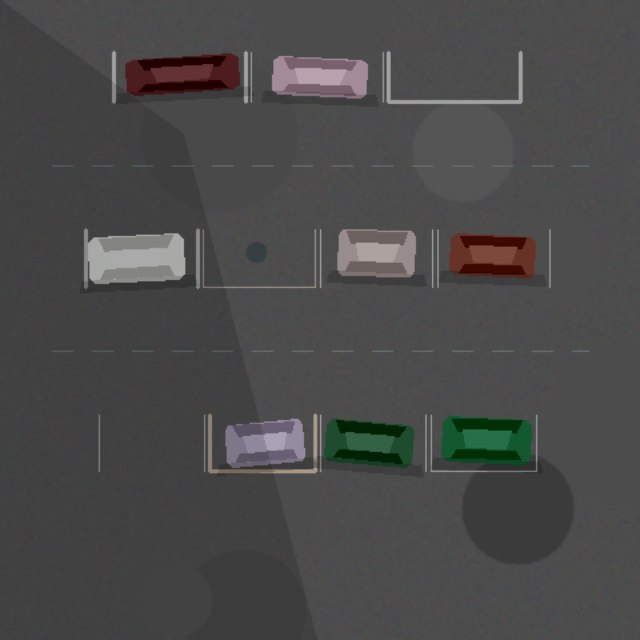space-empty: (203, 229, 315, 287), (388, 52, 520, 101), (99, 415, 204, 471)
space-occupied: (85, 229, 197, 287), (320, 229, 432, 287), (437, 229, 549, 287), (113, 52, 245, 101), (251, 52, 383, 101), (209, 415, 315, 471), (320, 415, 425, 471), (431, 415, 536, 471)
